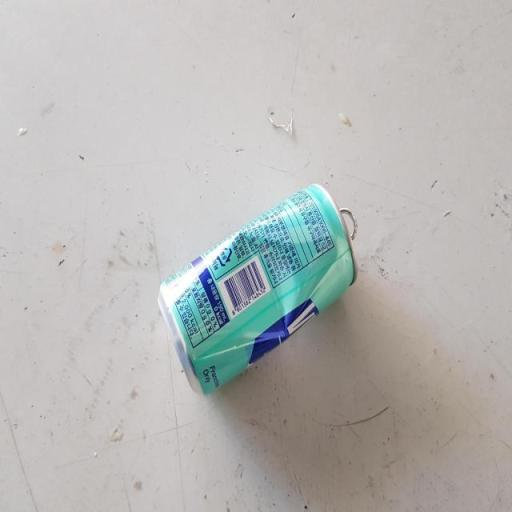metal: (150, 166, 378, 402)
